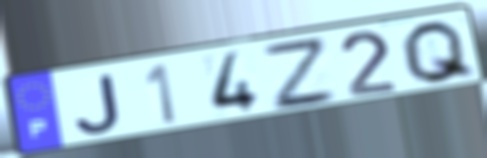1: (143, 61, 180, 126)
2: (339, 28, 399, 98)
4: (207, 48, 263, 118)
J: (71, 72, 124, 137)
Q: (398, 18, 480, 86)
Z: (258, 36, 341, 113)
